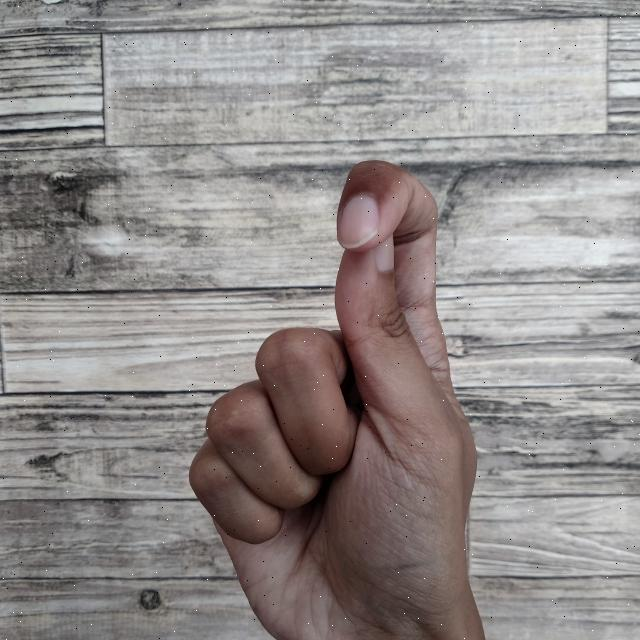T: (184, 155, 487, 640)
